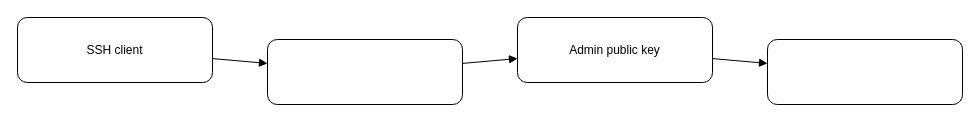
This 980x122 diagram has some shape labels left out. Here are the shapes that lost their labels. From the top down, the centre of each, then its label:
At (364,71): "FIDO2 signature".
At (864,71): "Access profile".
